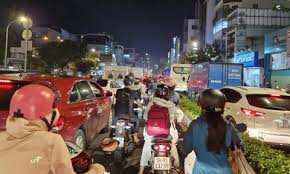Bien-so: (154, 156, 171, 170), (114, 136, 125, 147), (277, 120, 289, 129)
